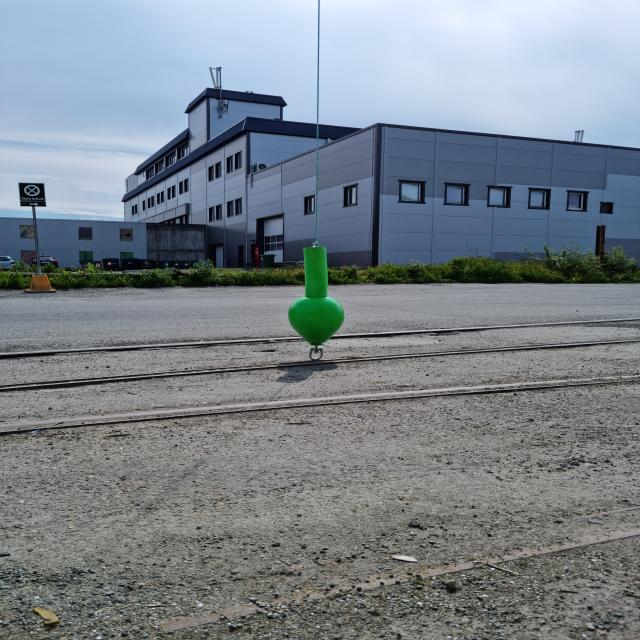green: (289, 247, 345, 346)
